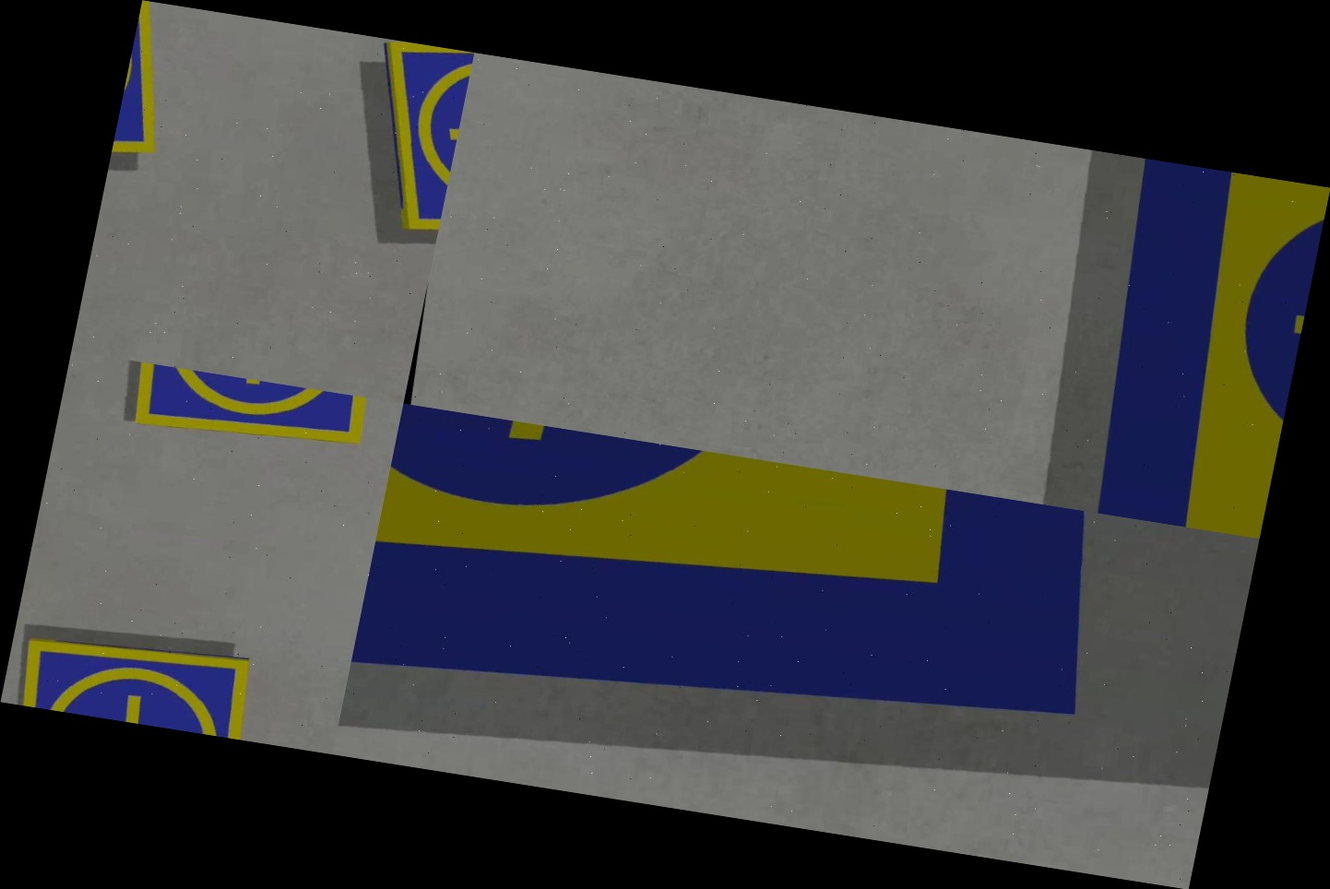large_base: (350, 404, 1121, 776), (1063, 157, 1329, 539)
small_base: (15, 622, 259, 740), (116, 360, 374, 458), (347, 39, 474, 238)
